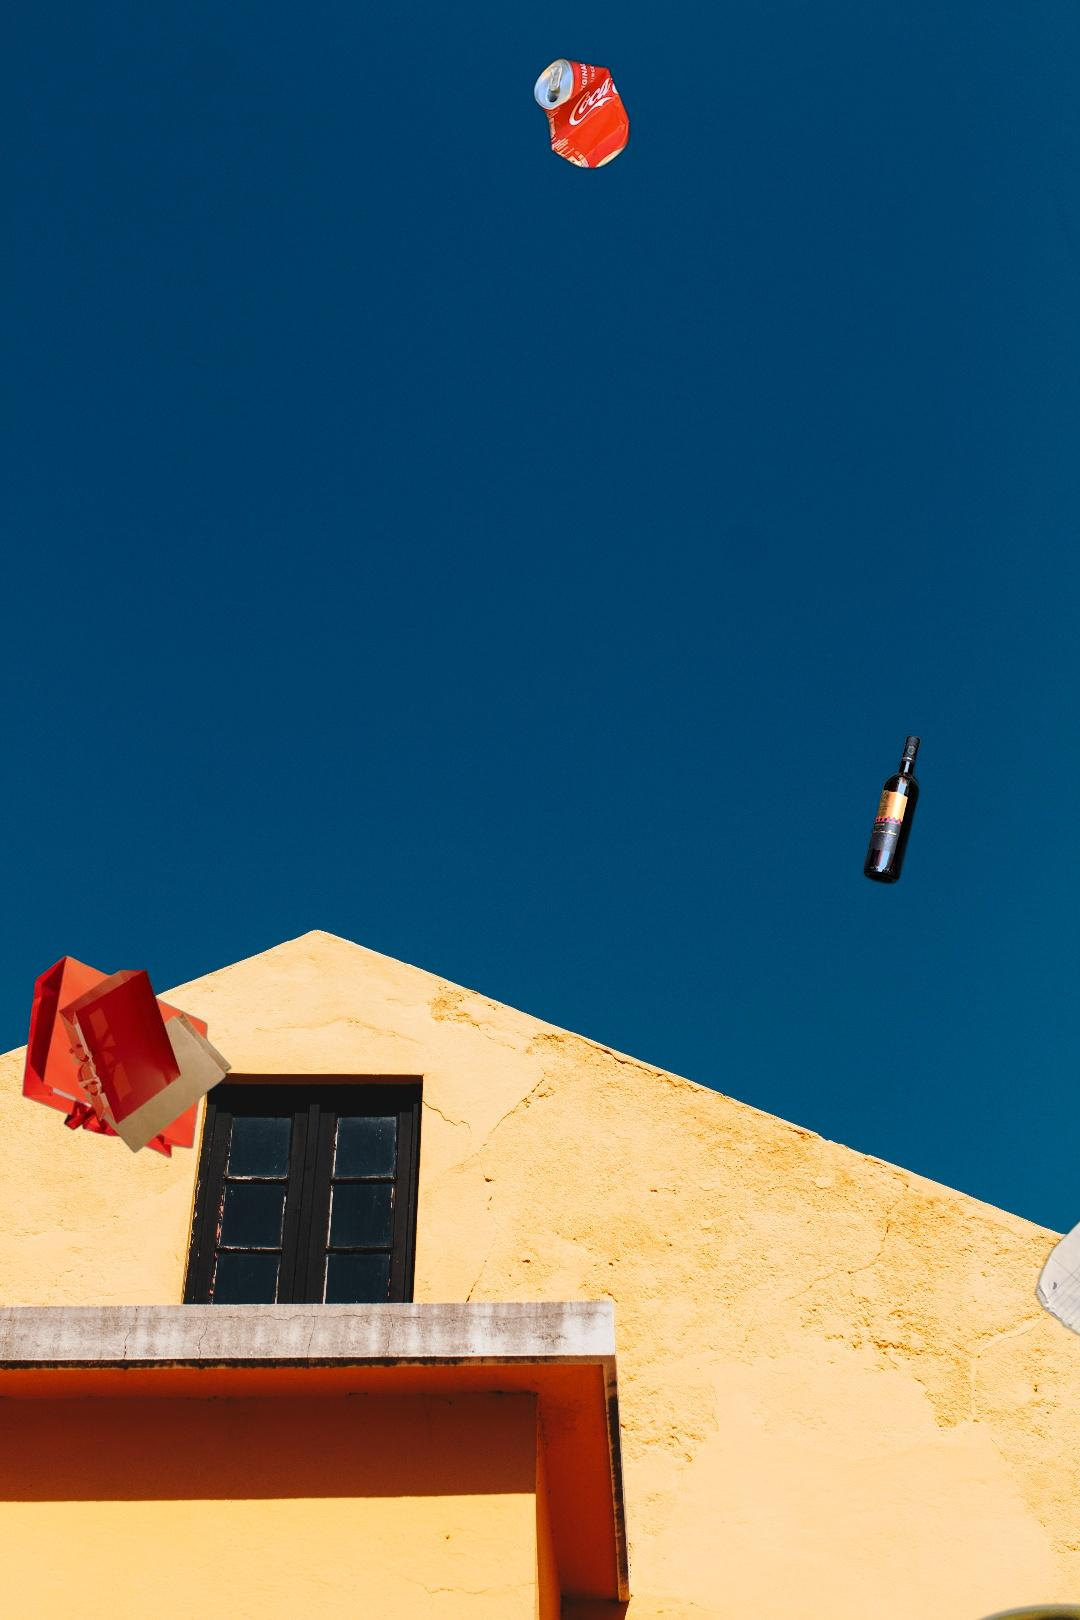battery: (931, 1597, 1080, 1620)
glass: (652, 523, 926, 890)
metal-cans: (529, 52, 635, 175)
paper: (683, 139, 1080, 410), (1032, 1149, 1080, 1461)
paper-bag: (20, 953, 234, 1161)
